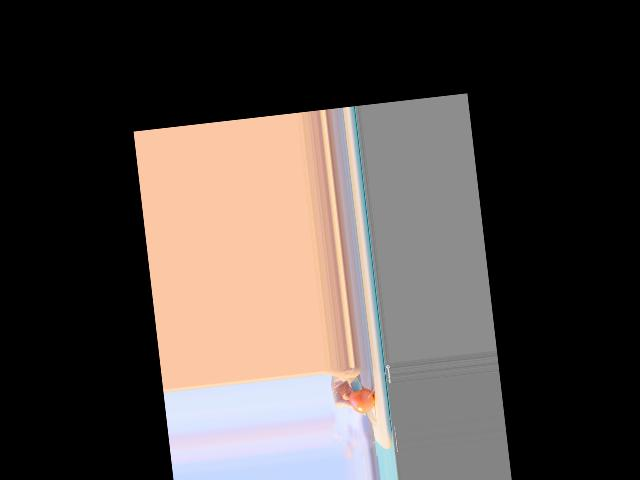tomato: (349, 386, 376, 415)
